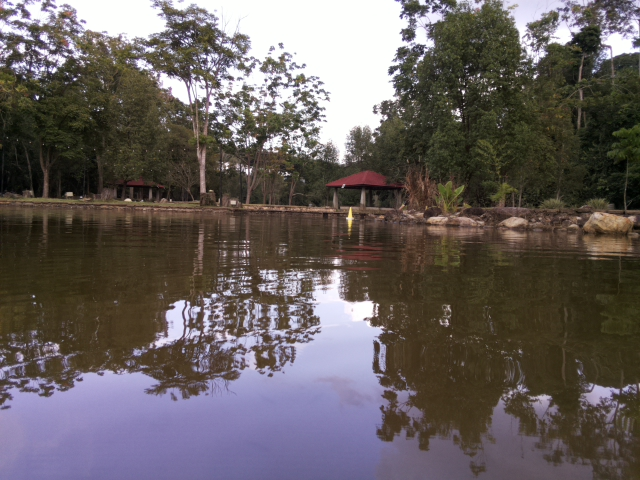checkpoint: (344, 206, 357, 221)
